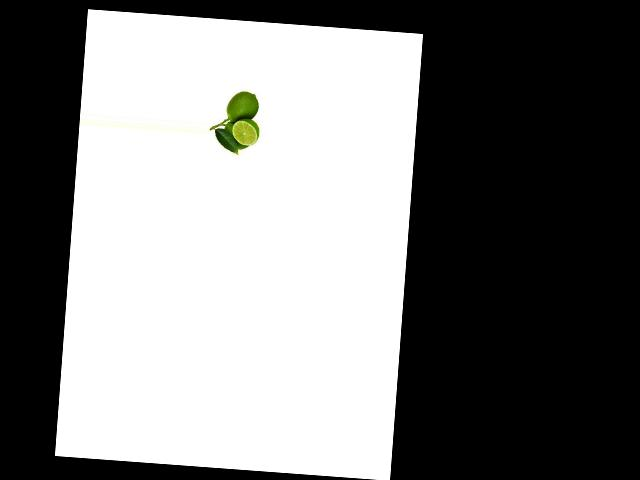lemon: (219, 121, 251, 151)
